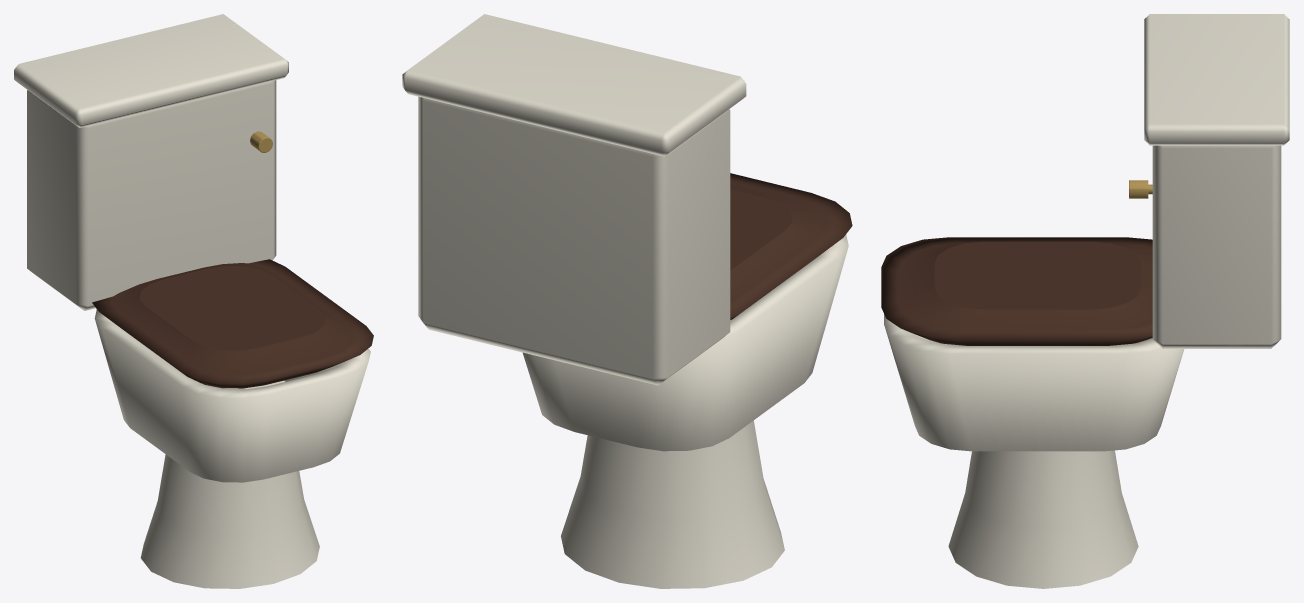
The model's file is rpg-mansion-toilet-01.glb.
3 views of the same model, side by side, from view 1: azimuth 30°, elevation 25°; view 2: azimuth 150°, elevation 25°; view 3: azimuth 270°, elevation 25° (orthographic). The views are drawn at different scales.
Parts seen in each view (by area): view 1: rpg-mansion-toilet-01; view 2: rpg-mansion-toilet-01; view 3: rpg-mansion-toilet-01.
Boxes of the visible parts, x1,y1,x2,y2 form: rpg-mansion-toilet-01: (14, 14, 373, 588); rpg-mansion-toilet-01: (402, 14, 852, 588); rpg-mansion-toilet-01: (881, 14, 1289, 588).
Bounding box in the file's own units: 0.46 × 0.89 × 0.69.
